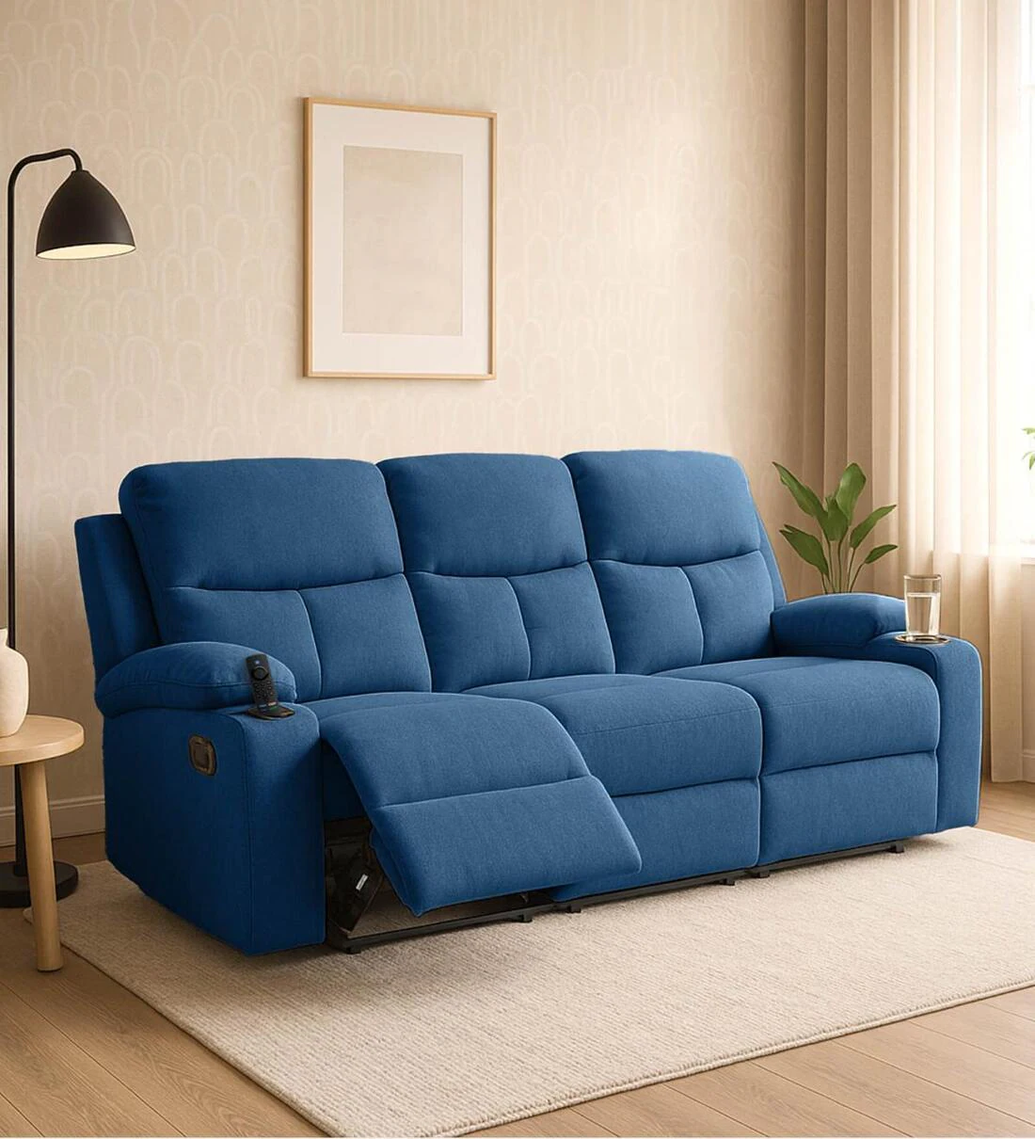3seatersofa: (75, 450, 981, 955)
backrest: (120, 451, 774, 701)
leftarmrest: (759, 517, 980, 823)
leg: (325, 836, 903, 954)
rightarmrest: (75, 515, 324, 951), (269, 656, 294, 703)
seat: (310, 658, 937, 912)
